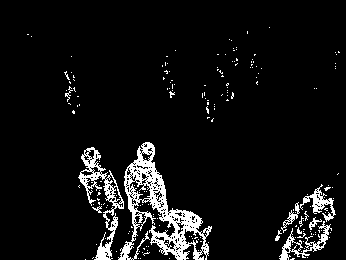person: (78, 146, 125, 260), (124, 141, 166, 260), (273, 184, 335, 260)
